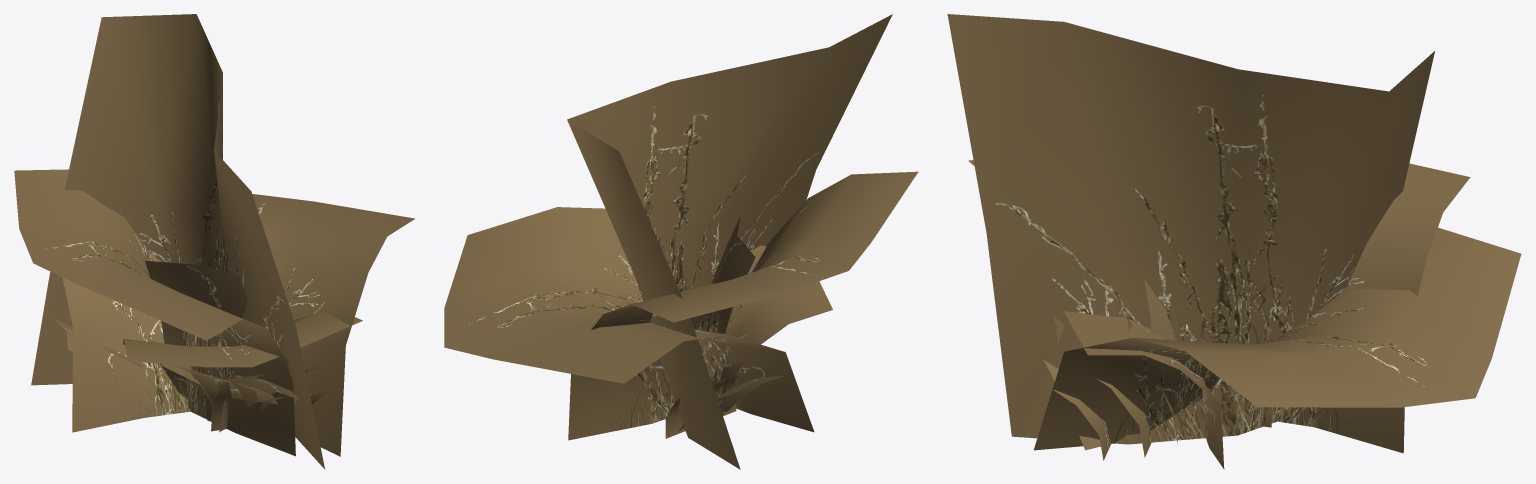
File: weed2.fbx
3 renders of one model, left to right at view 1: azimuth 30°, elevation 25°; view 2: azimuth 150°, elevation 25°; view 3: azimuth 270°, elevation 25°, orthographic. The views are drawn at different scales.
Parts seen in each view (by area): view 1: polymsh_extracted70; view 2: polymsh_extracted70; view 3: polymsh_extracted70.
Part boxes in pixels (box(x1,y1,x2,y2)): polymsh_extracted70: box(14, 14, 414, 469); polymsh_extracted70: box(444, 14, 918, 469); polymsh_extracted70: box(947, 14, 1521, 469).
Bounding box in the file's own units: 1.19 × 0.9545 × 1.36.
